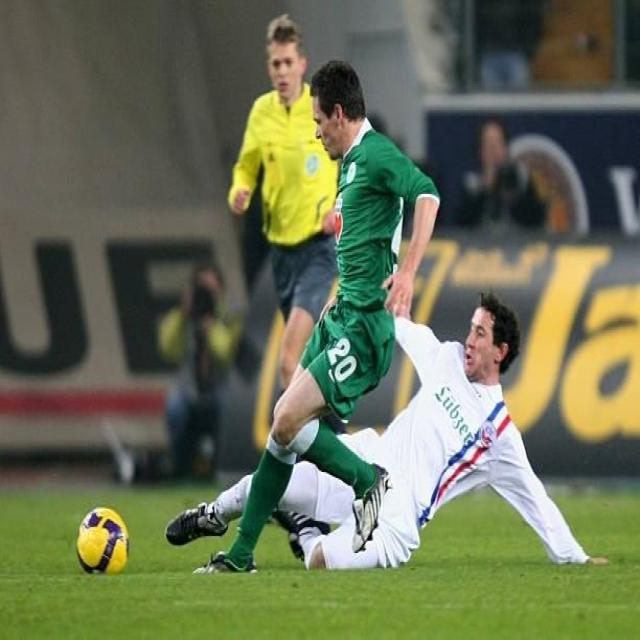ball: (69, 493, 134, 576)
player: (188, 64, 450, 574), (181, 304, 616, 591), (235, 12, 338, 399)
